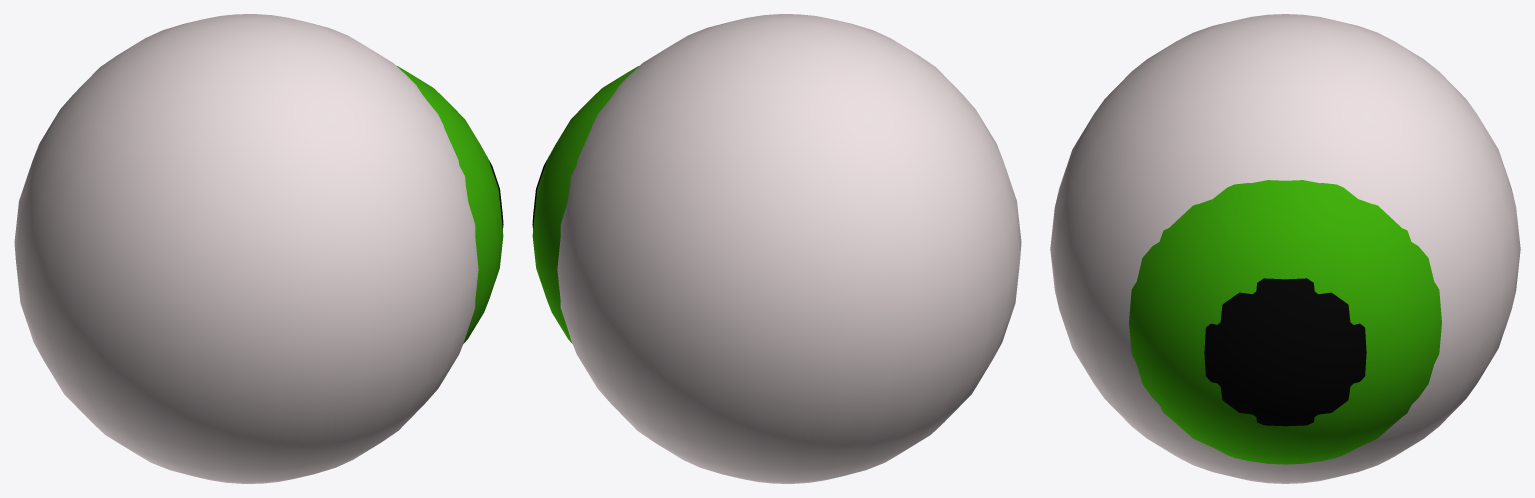
Rendered from eyeball_green.fbx.
The picture shows the model from 3 angles, left to right: view 1: azimuth 30°, elevation 25°; view 2: azimuth 150°, elevation 25°; view 3: azimuth 270°, elevation 25°; orthographic projection.
Parts seen in each view (by area): view 1: Sphere.002; view 2: Sphere.002; view 3: Sphere.002.
Part boxes in pixels (left/top/right/bottom): Sphere.002: left=14, top=14, right=503, bottom=483; Sphere.002: left=532, top=14, right=1021, bottom=483; Sphere.002: left=1050, top=14, right=1520, bottom=483.
Bounding box in the file's own units: 184 × 170 × 170.
